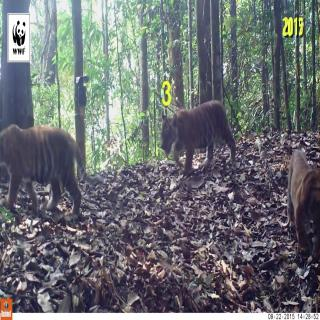Tiger: (0, 114, 93, 224), (157, 103, 240, 177), (285, 147, 320, 268)
